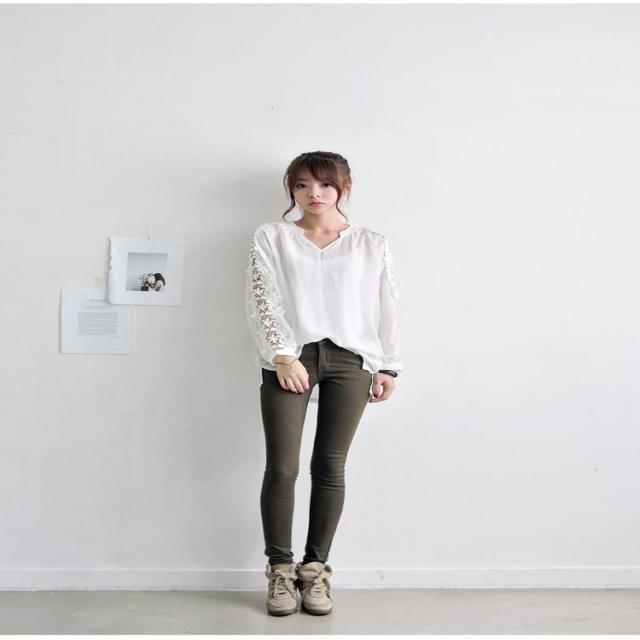long-sleeve-top: (248, 205, 410, 368)
trousers: (248, 379, 408, 562)
